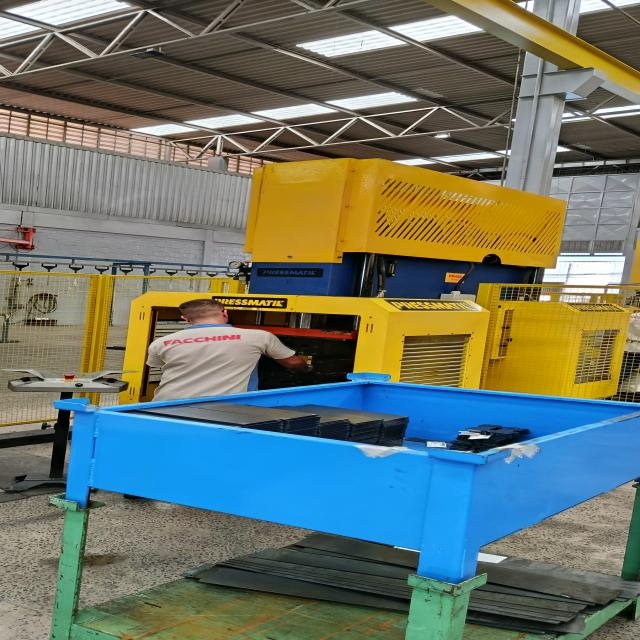oculos-epi: (221, 309, 227, 313)
